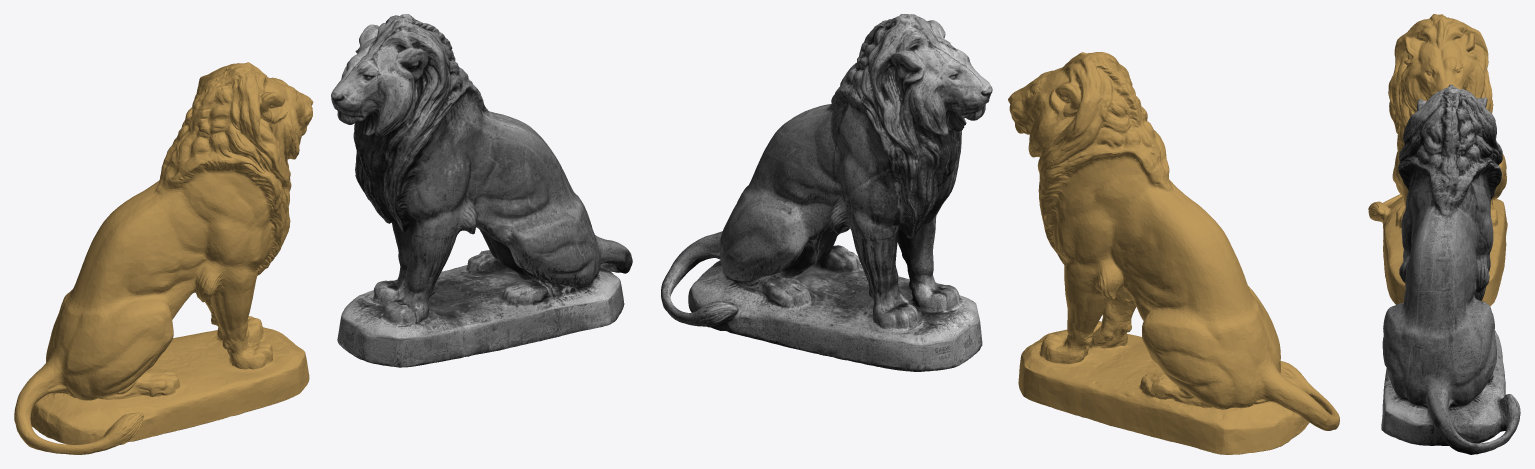
The model's file is barye-lion.glb.
3 views of the same model, side by side, from view 1: azimuth 30°, elevation 25°; view 2: azimuth 150°, elevation 25°; view 3: azimuth 270°, elevation 25° (orthographic). The views are drawn at different scales.
Parts seen in each view (by area): view 1: lion_poly, lion_texture; view 2: lion_poly, lion_texture; view 3: lion_texture, lion_poly.
Boxes of the visible parts, left/top/right/bottom form: lion_poly: left=14, top=62, right=313, bottom=454; lion_texture: left=331, top=14, right=632, bottom=367; lion_poly: left=1008, top=52, right=1339, bottom=454; lion_texture: left=661, top=14, right=992, bottom=371; lion_texture: left=1381, top=84, right=1520, bottom=454; lion_poly: left=1368, top=14, right=1507, bottom=306.
Bounding box in the file's own units: 1086 × 529 × 265.
2 materials, 1 textured.
